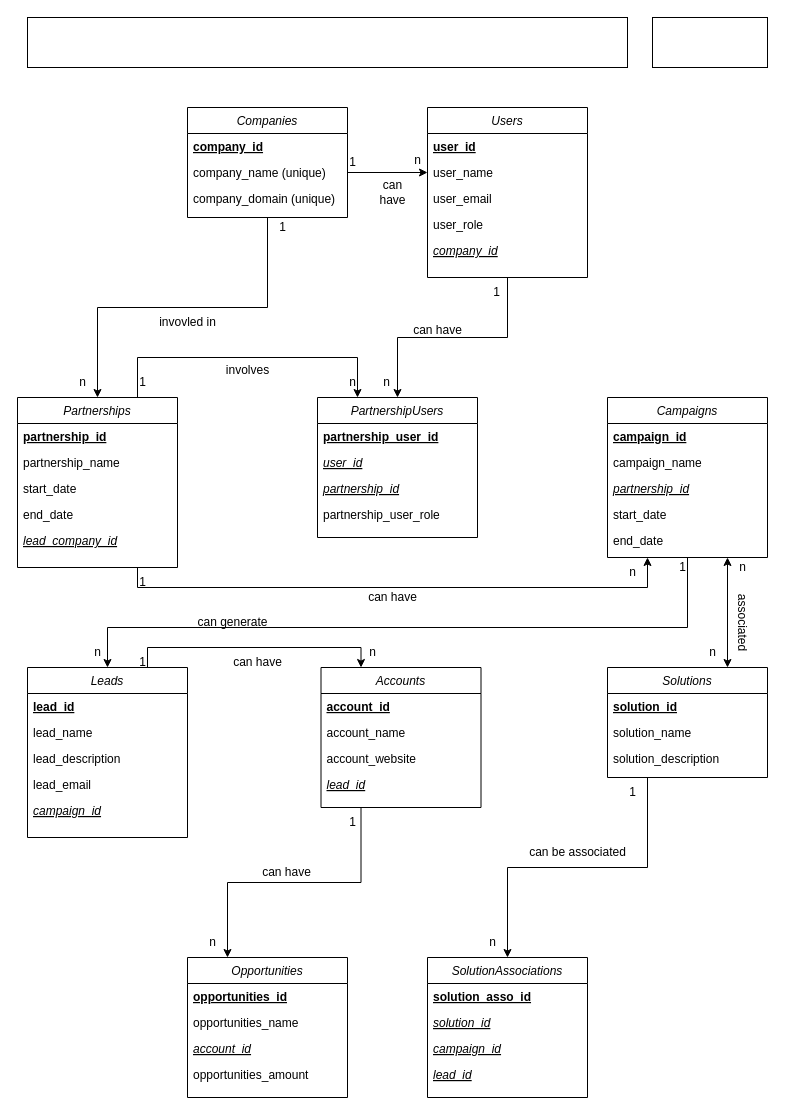
Image size: 785x1115. Some labels were removed from this diagram. The centre of each missing label's shape, as x and y in pixels:
"Database Schema for PARTNERSHIP MANAGEMENT SYSTEM" goes at point (327, 42).
"primary_key foreign_key" goes at point (710, 42).
